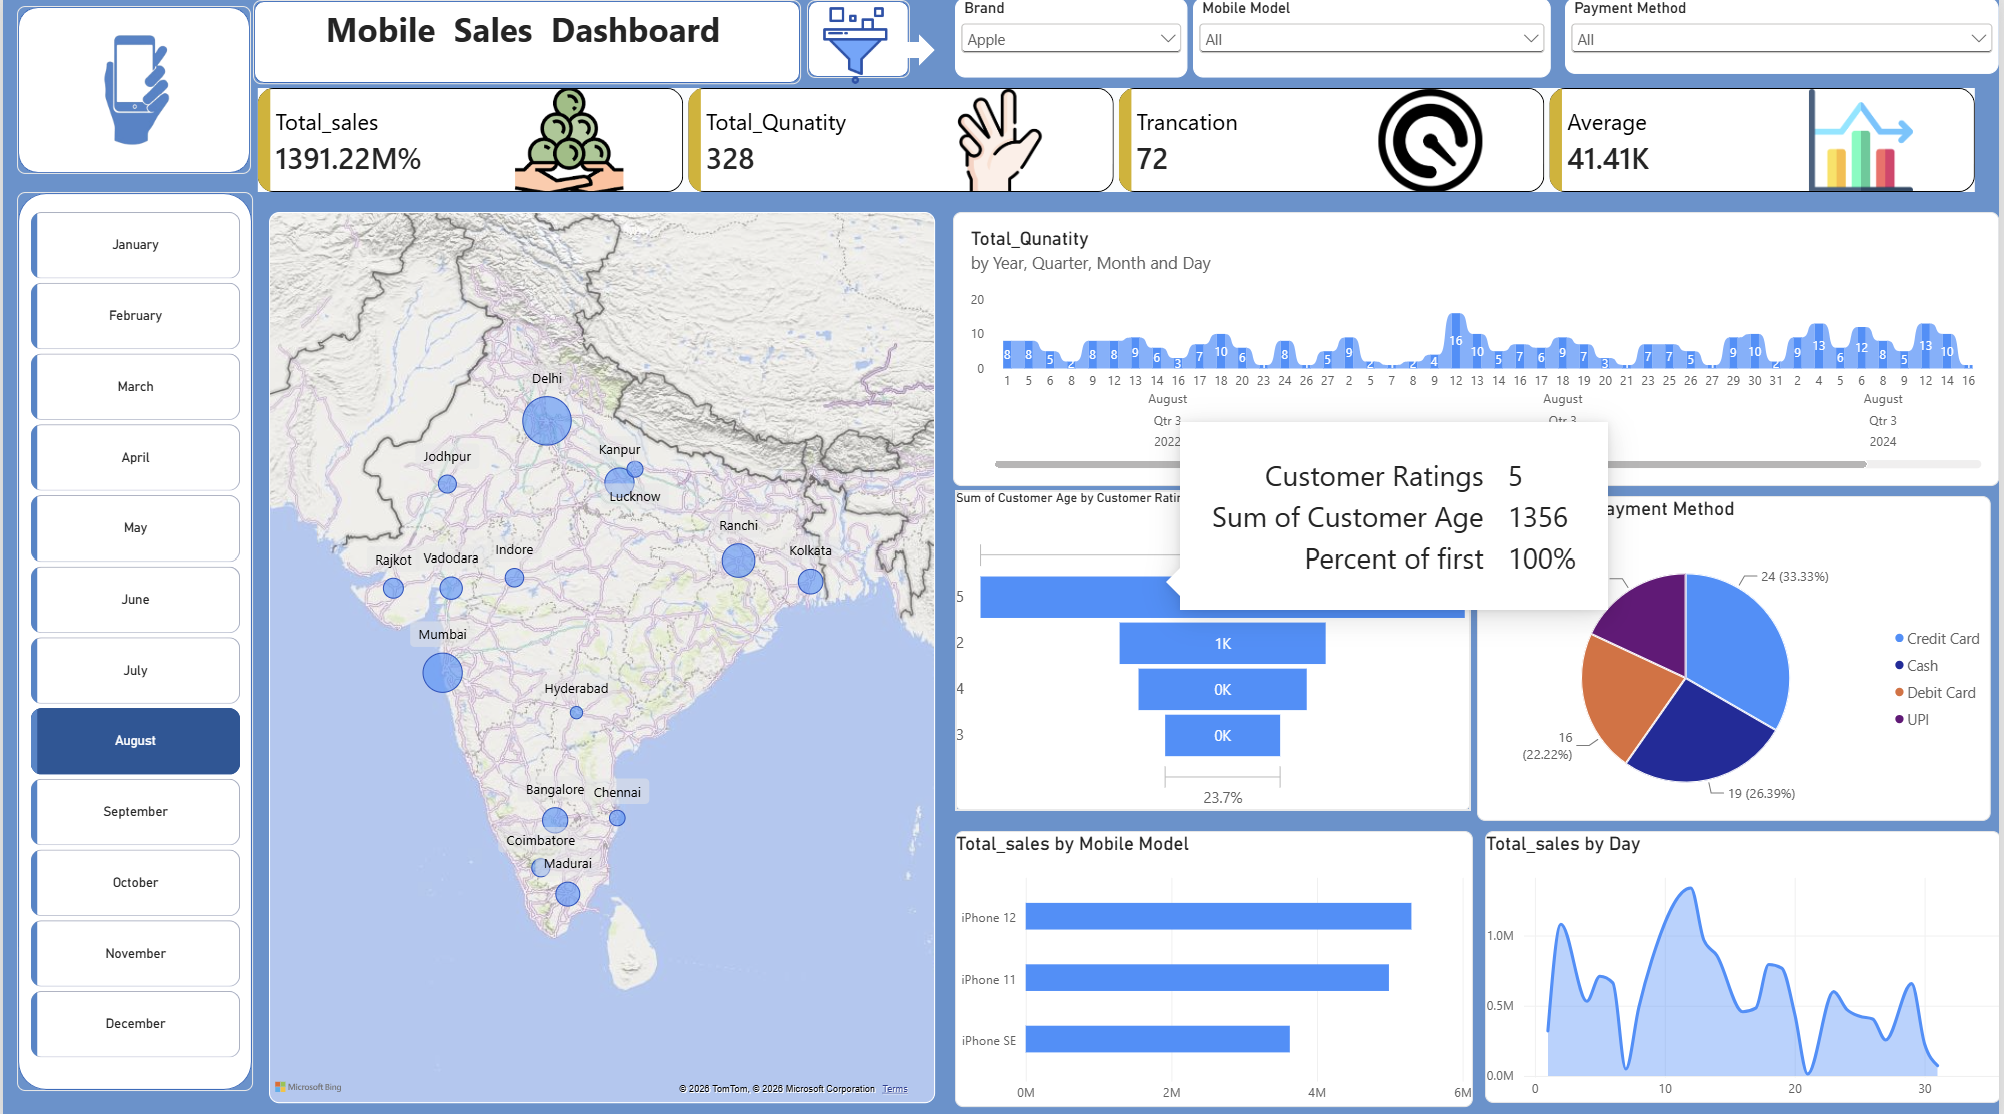

This screenshot's page, from the dashboard's own definition file:
{"tool":"powerbi","page":{"name":"Page 1","canvas":[1920,1080],"ordinal":0},"visuals":[{"type":"shape","box":[13.5,7.7,225,161.5],"z":0},{"type":"image","box":[13.5,7.7,226.9,178.8],"z":1000},{"type":"shape","box":[13.5,186.5,226.9,863.5],"z":2000},{"type":"advancedSlicerVisual","fields":{"Values":["Custom_calender.Date.Variation.Date Hierarchy.Month"]},"box":[26.9,205.8,201.9,823.1],"z":4000},{"type":"slicer","fields":{"Values":["Sales_data.Mobile Model"]},"box":[1144.2,0,344.1,76.3],"z":6000},{"type":"slicer","fields":{"Values":["Sales_data.Brand"]},"box":[915.4,0,223.7,76.3],"z":7000},{"type":"slicer","fields":{"Values":["Sales_data.Payment Method"]},"box":[1501.9,0,416.9,72.9],"z":8000},{"type":"shape","box":[773.1,1.9,98.9,75],"z":9000},{"type":"image","box":[773.1,7.7,93.2,76.1],"z":10000},{"type":"shape","box":[848.1,34.6,48.1,30.8],"z":11000},{"type":"shape","box":[240.4,1.9,526.9,80.8],"z":12000},{"type":"textbox","box":[255.8,7.7,488.5,65.4],"z":13000},{"type":"textbox","box":[1201,245,150,150],"z":15000},{"type":"map","fields":{"Category":["Sales_data.City"],"Size":["Sales_data.Total_sales"]},"box":[255.8,205.8,640.4,855.8],"z":16000},{"type":"ribbonChart","fields":{"Category":["Custom_calender.Date.Variation.Date Hierarchy.Year","Custom_calender.Date.Variation.Date Hierarchy.Quarter","Custom_calender.Date.Variation.Date Hierarchy.Month","Custom_calender.Date.Variation.Date Hierarchy.Day"],"Y":["Sales_data.Total_Qunatity"]},"box":[913.5,205.8,1005.8,263.5],"z":17000},{"type":"funnel","fields":{"Category":["Sales_data.Customer Ratings"],"Y":["Sum(Sales_data.Customer Age)"]},"box":[915.4,473.1,496.2,307.7],"z":18000},{"type":"pieChart","fields":{"Y":["Sales_data.Trancation"],"Category":["Sales_data.Payment Method"]},"box":[1417.3,478.8,494.2,311.5],"z":19000},{"type":"clusteredBarChart","fields":{"Y":["Sales_data.Total_sales"],"Category":["Sales_data.Mobile Model"]},"box":[915.4,800,498.1,265.4],"z":20000},{"type":"stackedAreaChart","fields":{"Y":["Sales_data.Total_sales"],"Category":["Custom_calender.Date.Variation.Date Hierarchy.Day"]},"box":[1425,800,496.2,261.5],"z":21000},{"type":"cardVisual","fields":{"Data":["Sales_data.Total_sales","Sales_data.Total_Qunatity","Sales_data.Trancation","Sales_data.Average"]},"box":[225,86.5,1694.2,100],"z":22001}]}

Visuals, with their boxes in screenshot pixels (x1, y1, x2, y2), scaled from the page's 1920x1080 canvas onto the 2004x1114 screenshot:
shape: (14, 8, 249, 175)
image: (14, 8, 251, 192)
shape: (14, 192, 251, 1083)
advancedSlicerVisual - Custom_calender.Date.Variation.Date Hierarchy.Month: (28, 212, 239, 1061)
slicer - Sales_data.Mobile Model: (1194, 0, 1553, 79)
slicer - Sales_data.Brand: (955, 0, 1189, 79)
slicer - Sales_data.Payment Method: (1568, 0, 2003, 75)
shape: (807, 2, 910, 79)
image: (807, 8, 904, 86)
shape: (885, 36, 935, 67)
shape: (251, 2, 801, 85)
textbox: (267, 8, 777, 75)
textbox: (1254, 253, 1410, 407)
map - Sales_data.City x Sales_data.Total_sales: (267, 212, 935, 1095)
ribbonChart - Custom_calender.Date.Variation.Date Hierarchy.Year x Custom_calender.Date.Variation.Date Hierarchy.Quarter: (953, 212, 2003, 484)
funnel - Sales_data.Customer Ratings x Sum(Sales_data.Customer Age): (955, 488, 1473, 805)
pieChart - Sales_data.Trancation x Sales_data.Payment Method: (1479, 494, 1995, 815)
clusteredBarChart - Sales_data.Total_sales x Sales_data.Mobile Model: (955, 825, 1475, 1099)
stackedAreaChart - Sales_data.Total_sales x Custom_calender.Date.Variation.Date Hierarchy.Day: (1487, 825, 2003, 1095)
cardVisual - Sales_data.Total_sales x Sales_data.Total_Qunatity: (235, 89, 2003, 192)
